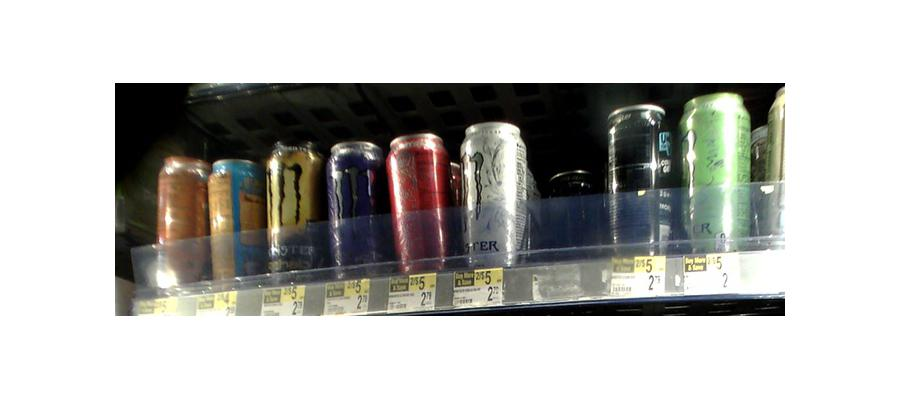bottle: (460, 121, 536, 270), (605, 103, 675, 259), (684, 92, 751, 253), (388, 134, 456, 277), (328, 142, 386, 276), (152, 152, 207, 293), (266, 141, 321, 281), (206, 156, 263, 284), (544, 161, 601, 255), (759, 84, 791, 248)
